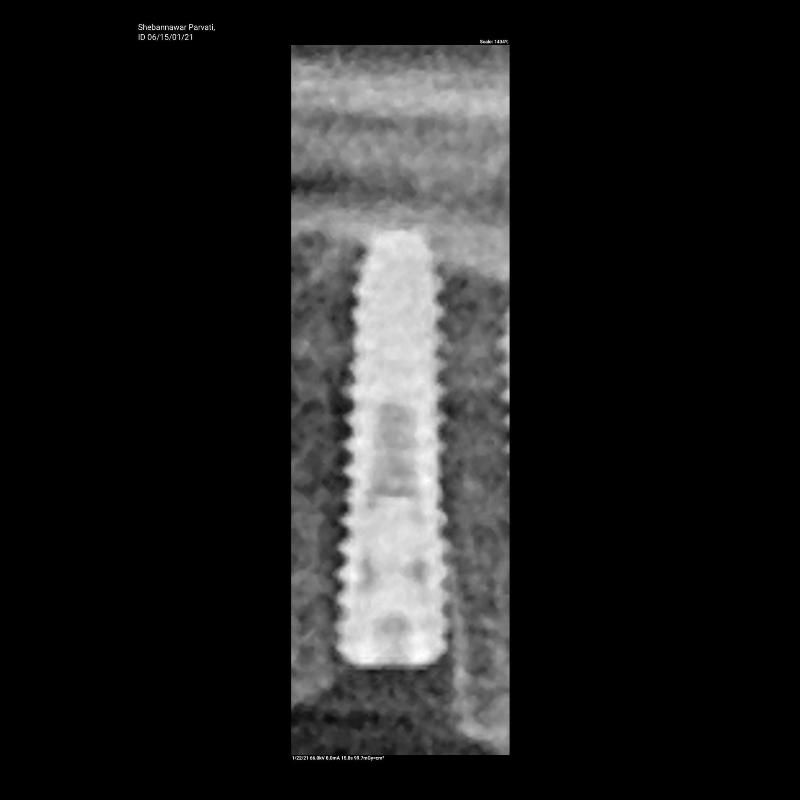osstem: (334, 227, 456, 665)
